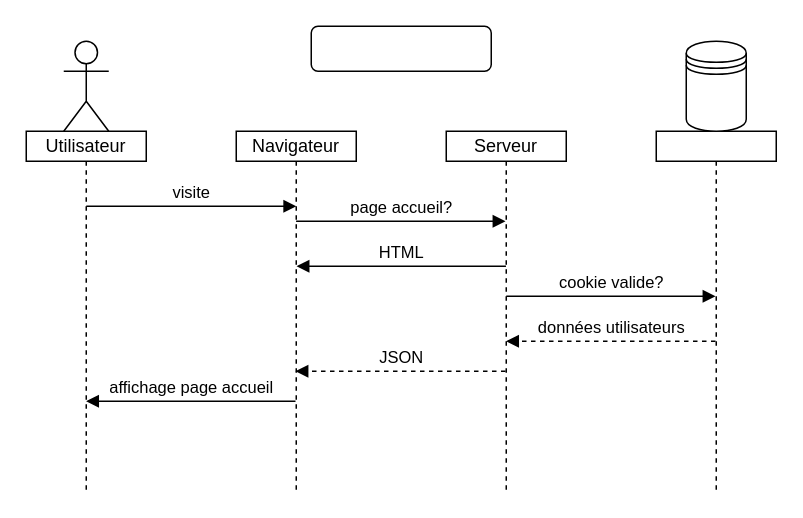
Image size: 803x518. Some labels were removed from this diagram. The centre of each missing label's shape, as x and y in pixels:
"BDD" belongs at [715,310].
"Visite du site" belongs at [400,48].
